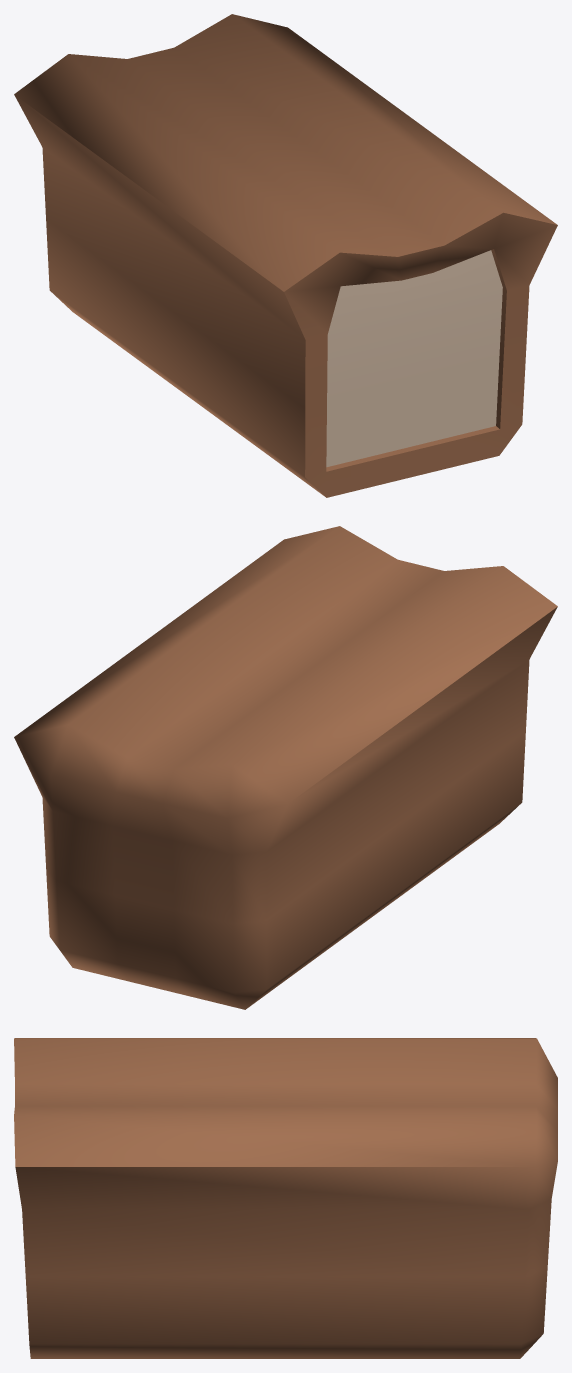
Rendered from BreadLoaf.fbx.
3 renders of one model, top to bottom at view 1: azimuth 30°, elevation 25°; view 2: azimuth 150°, elevation 25°; view 3: azimuth 270°, elevation 25°, orthographic. The views are drawn at different scales.
Visible parts, largest first — view 1: BreadLoaf; view 2: BreadLoaf; view 3: BreadLoaf.
Boxes of the visible parts, box(x1,y1,x2,y2) form: BreadLoaf: box(14, 14, 557, 497); BreadLoaf: box(14, 526, 557, 1009); BreadLoaf: box(14, 1038, 557, 1358).
Bounding box in the file's own units: 21.68 × 18.95 × 38.7.
